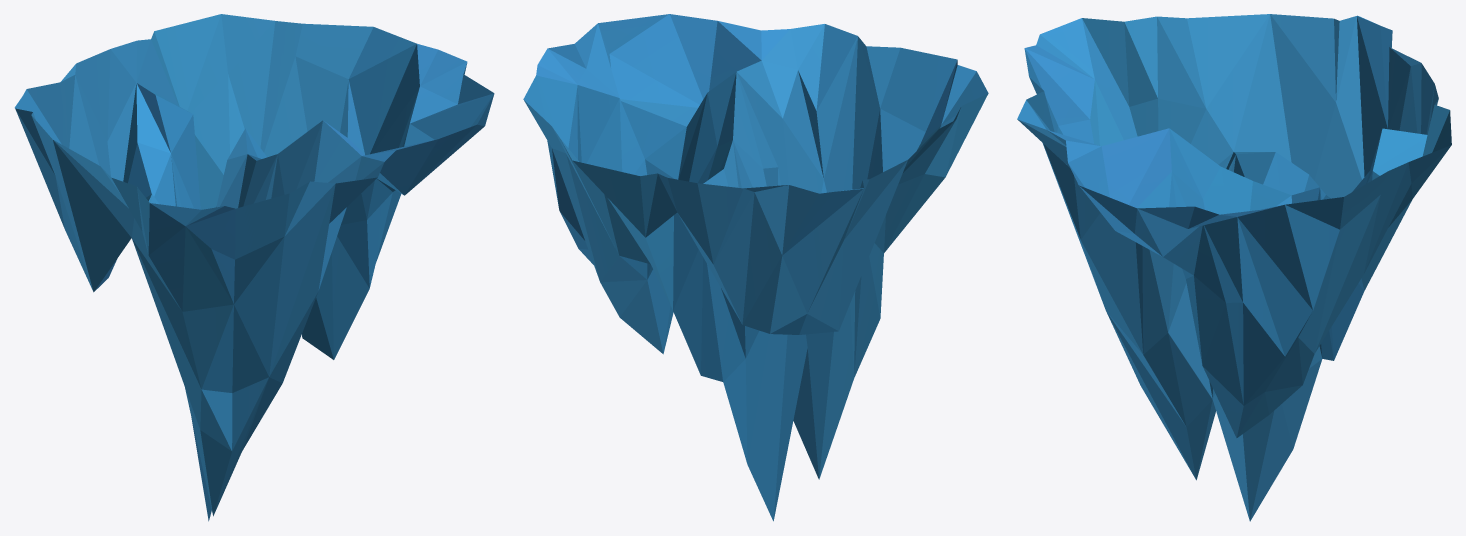
File: sp_mountain01.glb
3 renders of one model, left to right at view 1: azimuth 30°, elevation 25°; view 2: azimuth 150°, elevation 25°; view 3: azimuth 270°, elevation 25°, orthographic. The views are drawn at different scales.
Visible parts, largest first — view 1: SP_Mountain01; view 2: SP_Mountain01; view 3: SP_Mountain01.
Boxes of the visible parts, x1,y1,x2,y2 form: SP_Mountain01: (14,14,494,521); SP_Mountain01: (523,14,988,521); SP_Mountain01: (1017,14,1451,521).
Size of the model in its own units: 518 by 520 by 474.
1 material, 1 textured.
